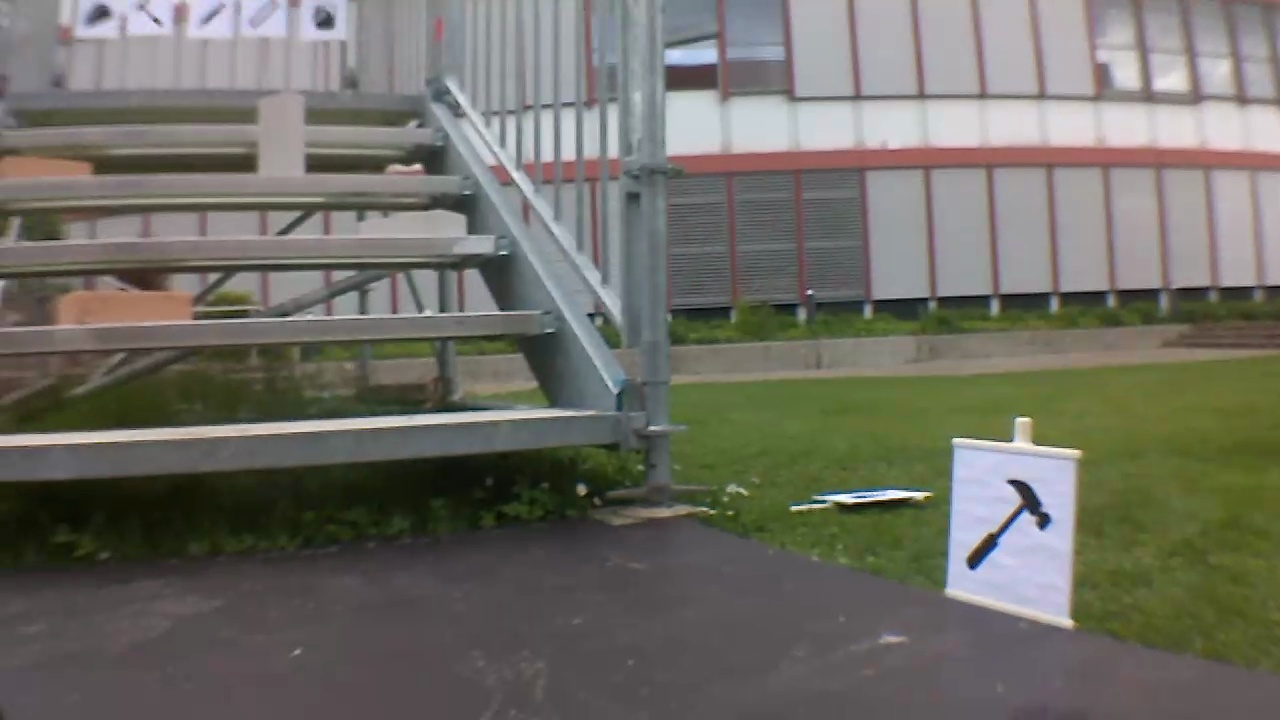brick: (56, 291, 190, 324), (261, 94, 302, 177), (3, 157, 89, 178)
bucket: (302, 1, 339, 33)
edge: (2, 412, 621, 480), (2, 311, 560, 351), (2, 233, 514, 263), (2, 172, 476, 194), (2, 128, 451, 146), (9, 90, 426, 107)
hammer: (956, 473, 1057, 578), (131, 2, 165, 30)
pencil: (194, 1, 226, 32)
ruler: (245, 1, 281, 33)
taco: (78, 2, 111, 29)
